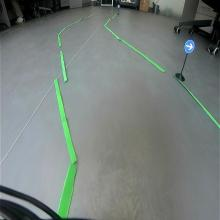right: (184, 38, 195, 54)
